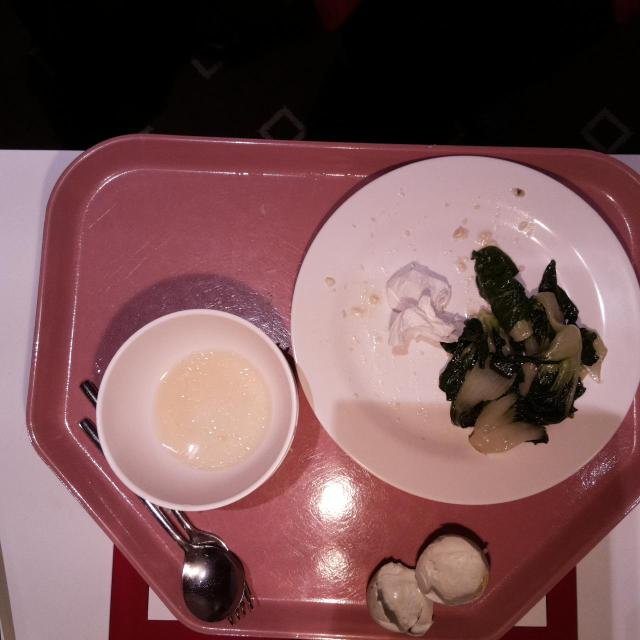Egg-shell: (415, 528, 489, 608), (365, 558, 435, 639)
Vegetable: (473, 245, 531, 325), (513, 364, 583, 426), (438, 316, 486, 403), (486, 326, 534, 398), (538, 258, 578, 328), (548, 326, 600, 364)
